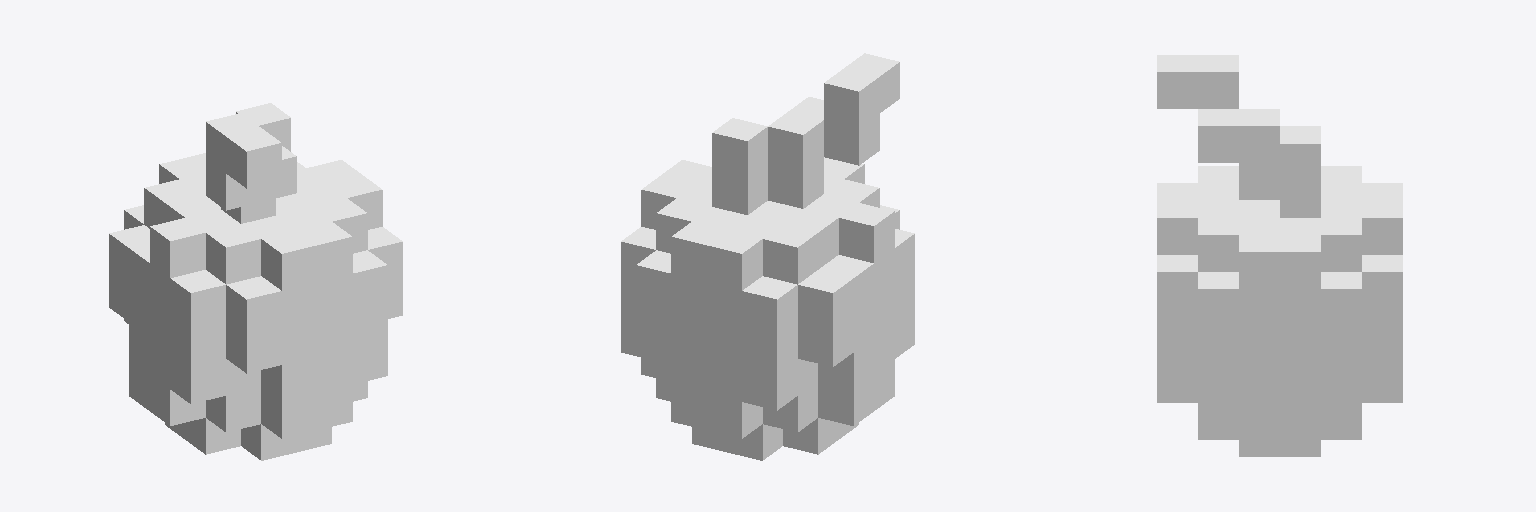
Rendered from glue_apple.obj.
The picture shows the model from 3 angles: view 1: azimuth 30°, elevation 25°; view 2: azimuth 150°, elevation 25°; view 3: azimuth 270°, elevation 25°; orthographic projection.
Parts seen in each view (by area): view 1: object 1; view 2: object 1; view 3: object 1.
Part boxes in pixels (x1,y1,x2,y2): object 1: (109, 103, 402, 460); object 1: (621, 53, 914, 460); object 1: (1157, 55, 1402, 456).
Bounding box in the file's own units: 0.6 × 0.9 × 0.6.